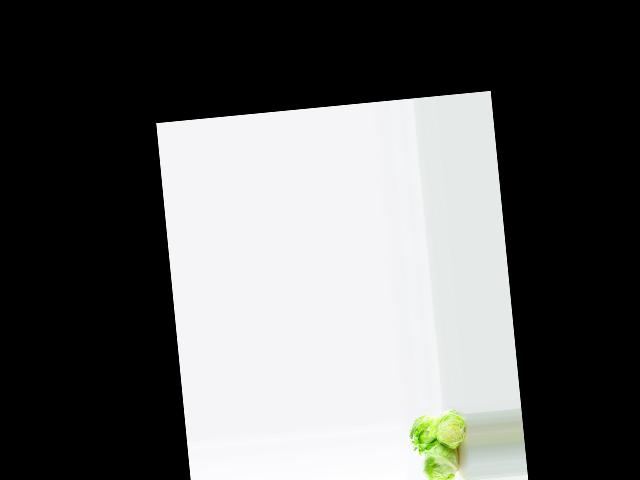lettuce: (404, 412, 442, 458)
